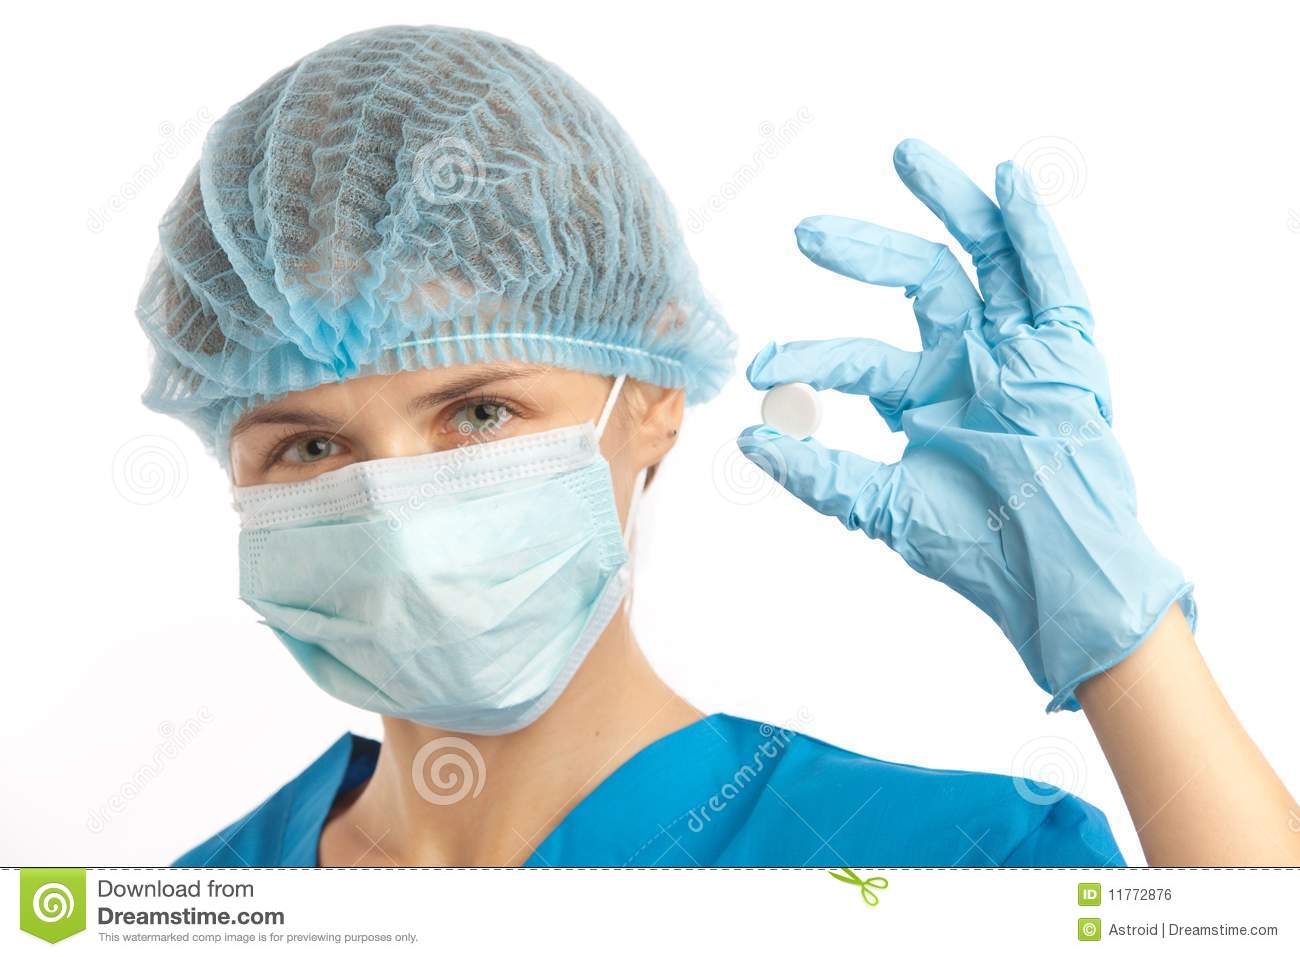mask: (230, 442, 635, 739)
